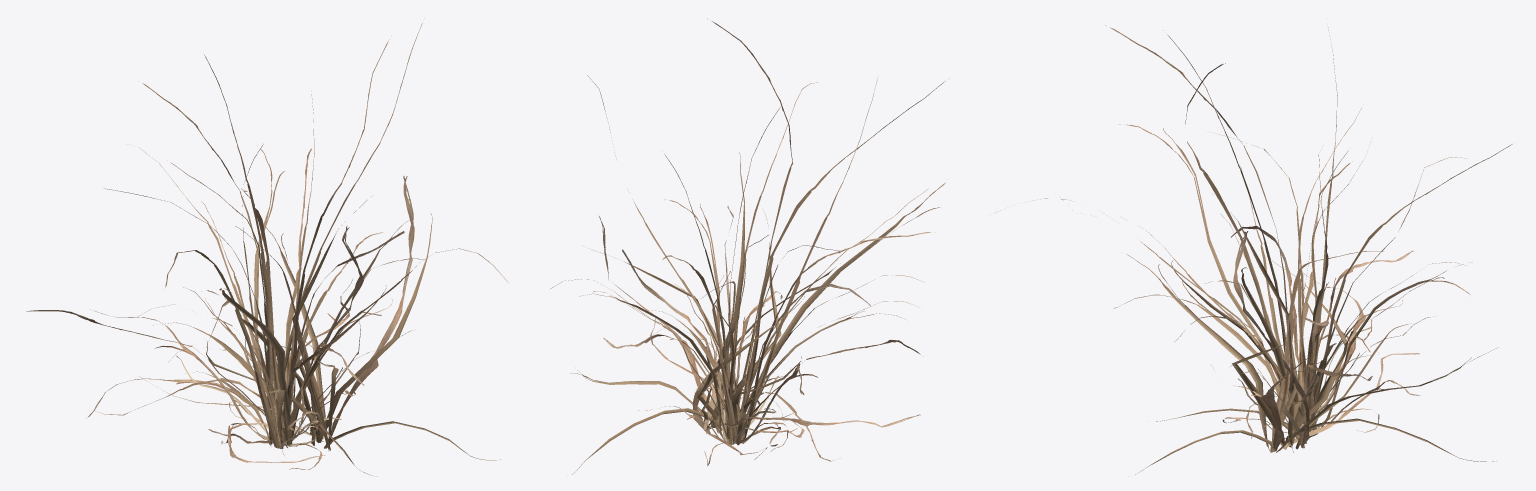
File: V10_DryTuft_C.fbx
3 renders of one model, left to right at view 1: azimuth 30°, elevation 25°; view 2: azimuth 150°, elevation 25°; view 3: azimuth 270°, elevation 25°, orthographic. The views are drawn at different scales.
Parts seen in each view (by area): view 1: V10_DryTuft_C; view 2: V10_DryTuft_C; view 3: V10_DryTuft_C.
Part boxes in pixels (x1=…): V10_DryTuft_C: x1=26, y1=18, x2=508, y2=476; V10_DryTuft_C: x1=550, y1=18, x2=949, y2=474; V10_DryTuft_C: x1=995, y1=25, x2=1512, y2=474.
Size of the model in its own units: 43.81 by 45 by 53.18.
